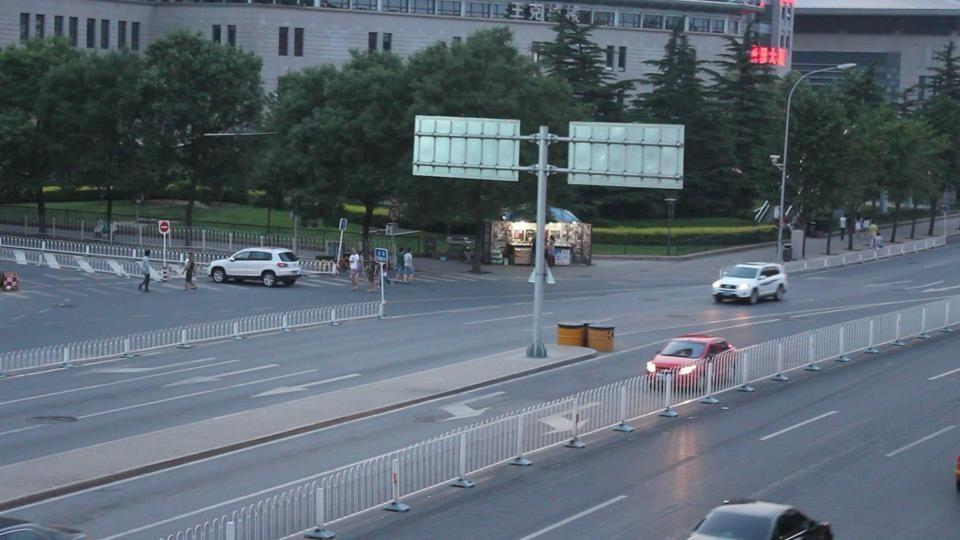car: (684, 499, 832, 539), (644, 333, 738, 389), (206, 247, 304, 287), (711, 261, 790, 305), (953, 448, 960, 494)
